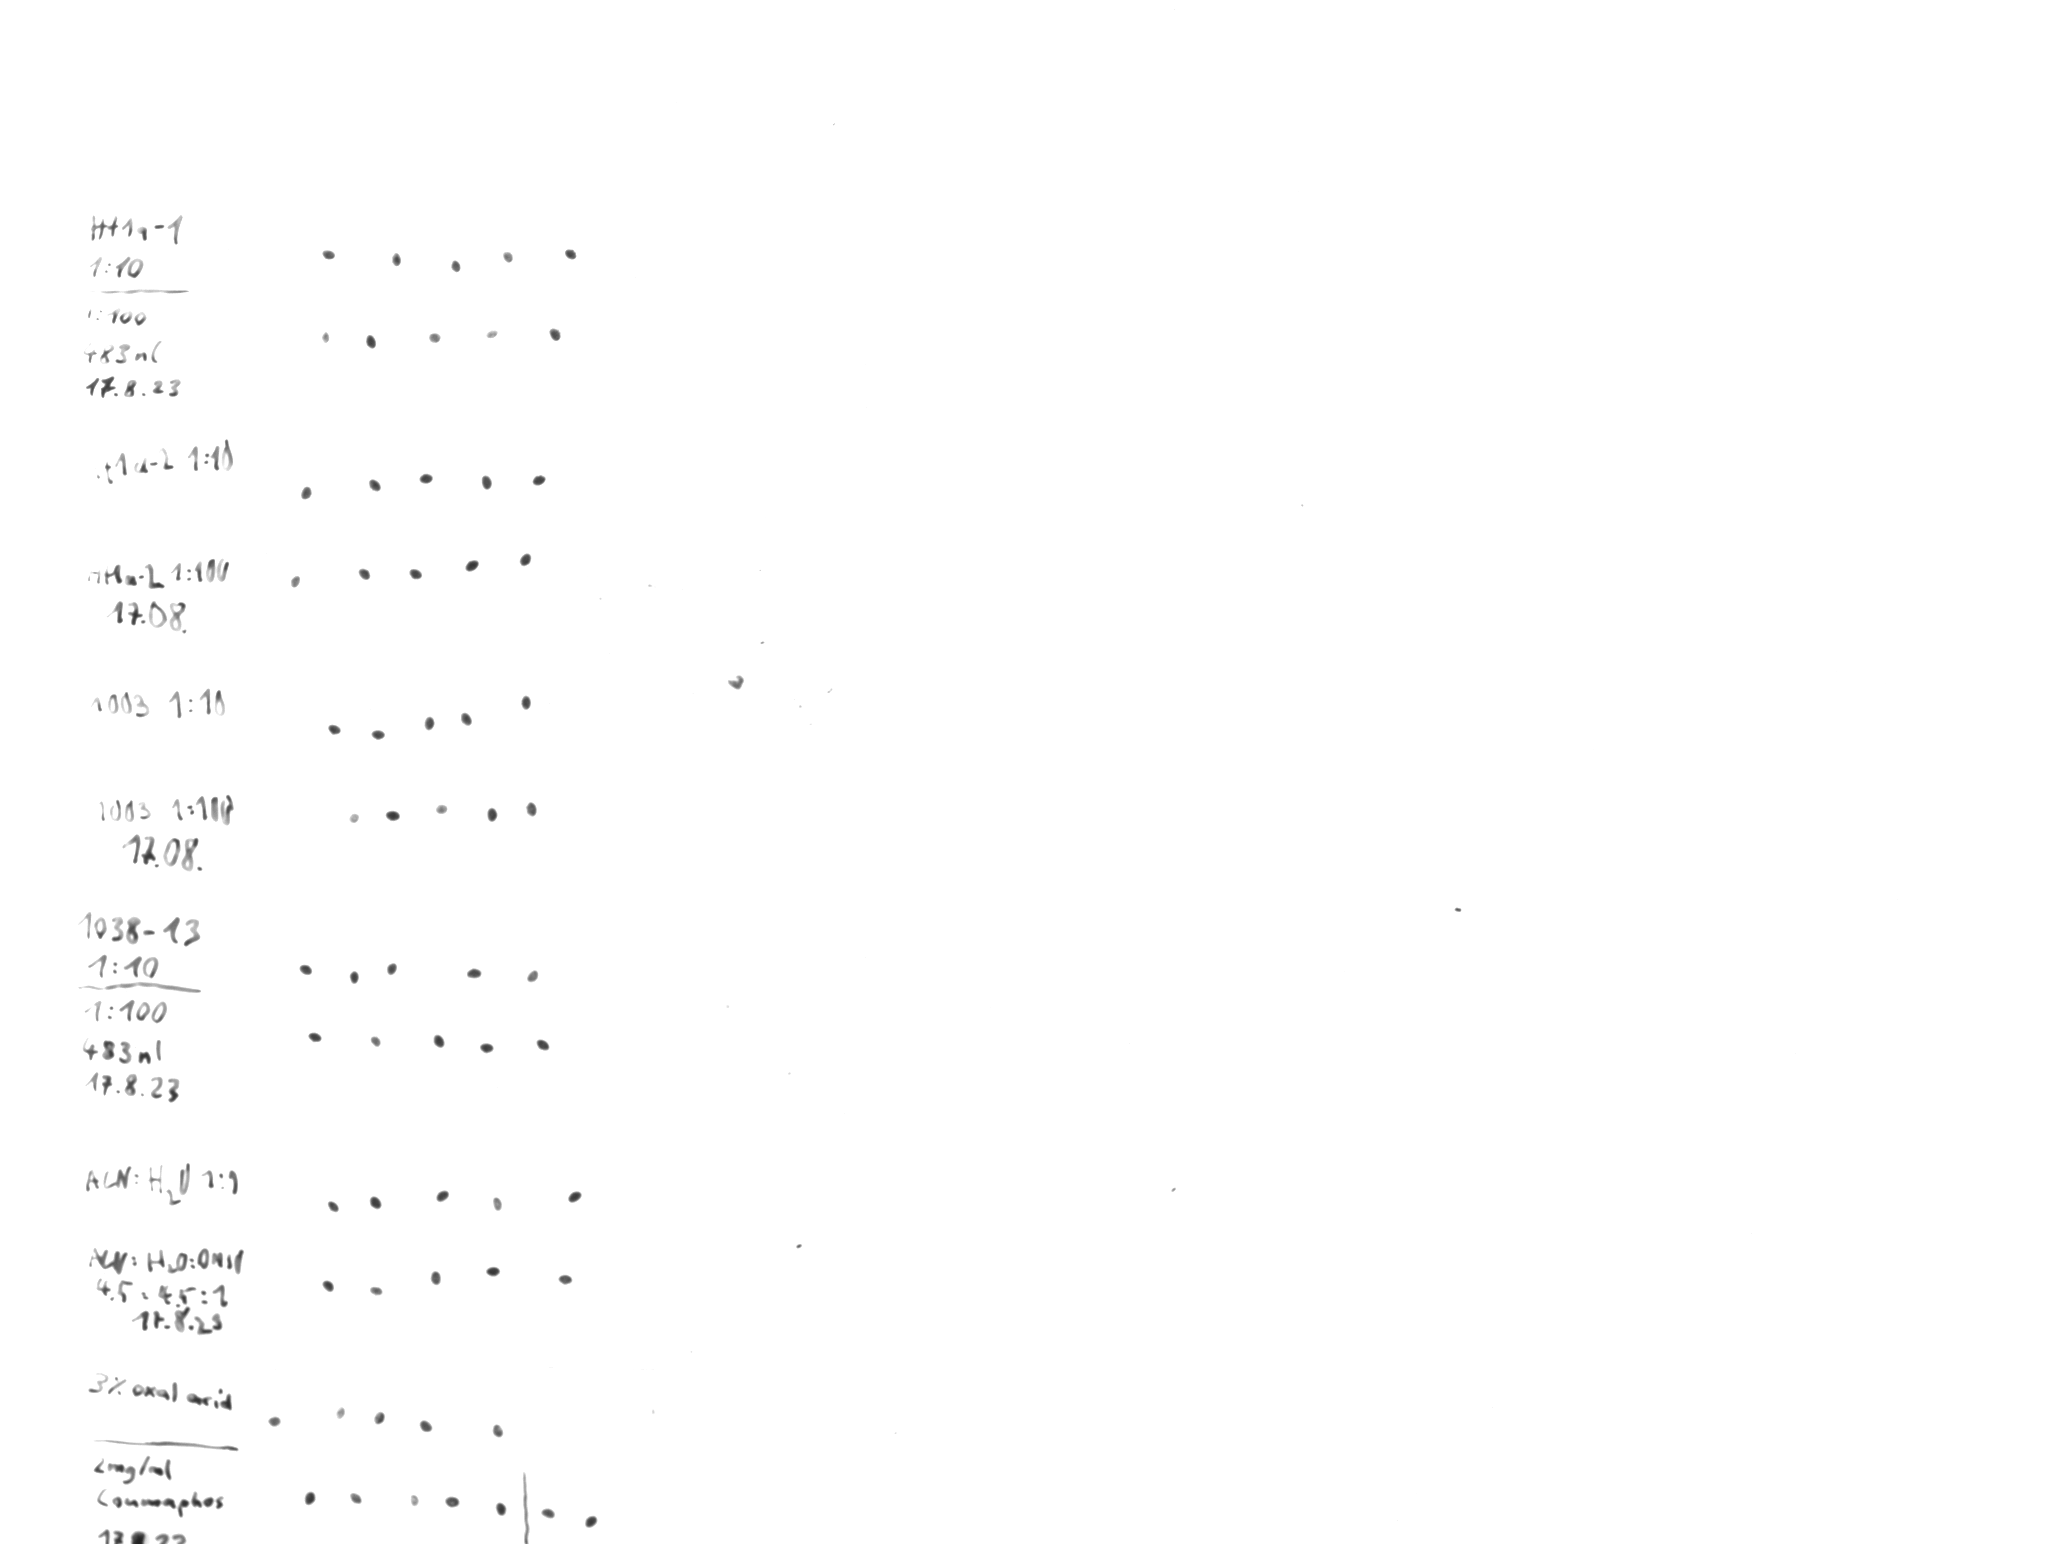varroa: (561, 1189, 585, 1205), (431, 1187, 452, 1203), (462, 965, 485, 980), (319, 247, 337, 264), (582, 1512, 600, 1529), (363, 332, 379, 350), (462, 556, 480, 573), (305, 1028, 323, 1044), (529, 472, 548, 487), (532, 1036, 553, 1049), (388, 251, 404, 268), (285, 573, 302, 589), (371, 1409, 388, 1426), (383, 808, 400, 822), (264, 1413, 282, 1427), (490, 1500, 507, 1515), (415, 1419, 435, 1432), (449, 259, 464, 276), (499, 250, 516, 264), (478, 474, 493, 490), (407, 566, 423, 581), (326, 722, 342, 736), (422, 715, 438, 730), (297, 962, 313, 976), (366, 1195, 383, 1210), (488, 1195, 504, 1210), (407, 1492, 422, 1508), (368, 477, 381, 495), (368, 728, 386, 741), (519, 694, 532, 712), (459, 710, 473, 725), (321, 1278, 336, 1293), (563, 248, 579, 261), (550, 328, 563, 344), (477, 1041, 493, 1054), (324, 1199, 340, 1212), (303, 1490, 316, 1507), (556, 1273, 574, 1285), (318, 331, 332, 344), (517, 553, 532, 566), (524, 803, 537, 817), (345, 970, 360, 983), (368, 1035, 383, 1048), (431, 1035, 446, 1048), (428, 1270, 441, 1285), (483, 1267, 503, 1276), (490, 1424, 504, 1437), (350, 1490, 363, 1505), (542, 1507, 556, 1520), (428, 331, 441, 344), (357, 568, 370, 581), (485, 808, 498, 821), (525, 968, 538, 981), (444, 1495, 457, 1508), (435, 803, 449, 814), (417, 474, 433, 483), (384, 962, 397, 973), (334, 1406, 345, 1419), (363, 1288, 384, 1294), (349, 813, 360, 824), (302, 487, 311, 500), (485, 329, 498, 337)
